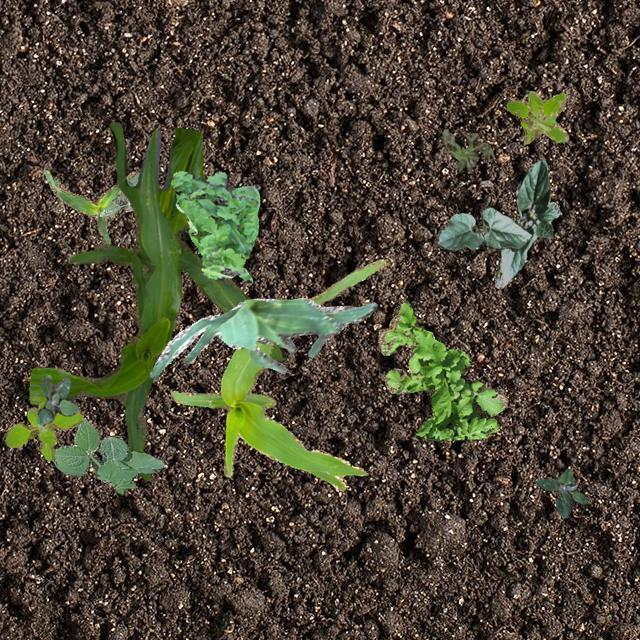crop: (28, 120, 286, 480), (170, 258, 384, 490), (148, 296, 376, 376), (494, 158, 560, 288), (42, 168, 134, 242), (434, 204, 530, 250)
weed: (378, 300, 506, 440), (170, 170, 258, 284), (51, 418, 162, 492), (3, 400, 82, 460), (506, 90, 568, 142), (534, 468, 588, 516), (442, 128, 492, 170), (36, 376, 76, 424), (97, 172, 139, 216)
